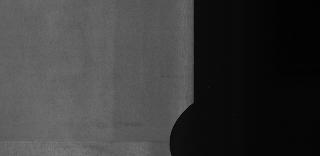welding line: (2, 137, 176, 149)
